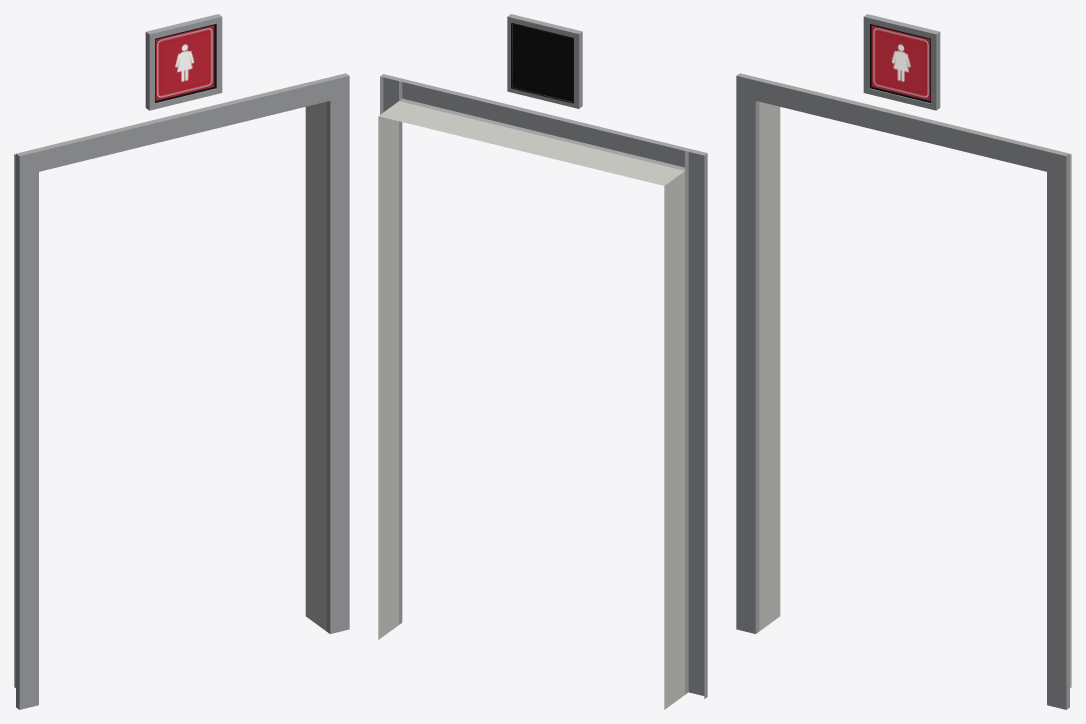
The model's file is gteki_toilet_entrance_female.glb.
3 views of the same model, side by side, from view 1: azimuth 30°, elevation 25°; view 2: azimuth 150°, elevation 25°; view 3: azimuth 330°, elevation 25° (orthographic).
Visible parts, largest first — view 1: VIS_body; view 2: VIS_body; view 3: VIS_body.
Boxes of the visible parts, x1,y1,x2,y2 form: VIS_body: (14, 14, 349, 709); VIS_body: (378, 14, 707, 709); VIS_body: (736, 14, 1071, 709).
Size of what is drawn, in the model's own units: 1.36 by 2.54 by 0.185.
Materials: 2 (2 with a texture image).
